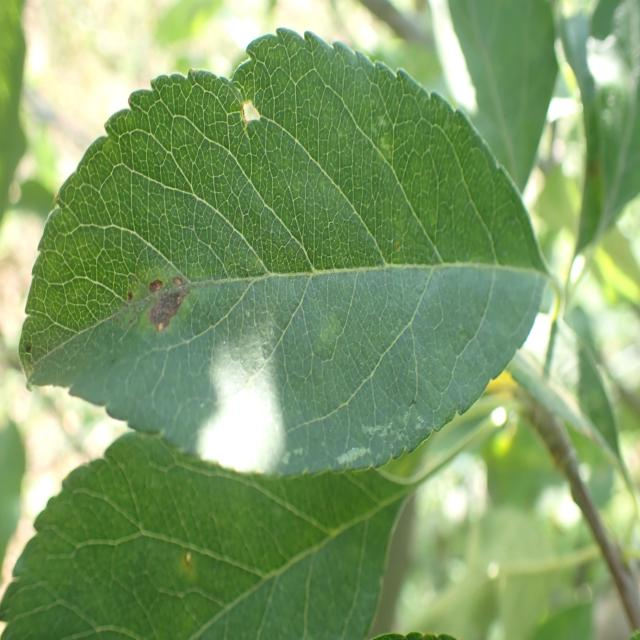scab: (62, 106, 522, 390)
